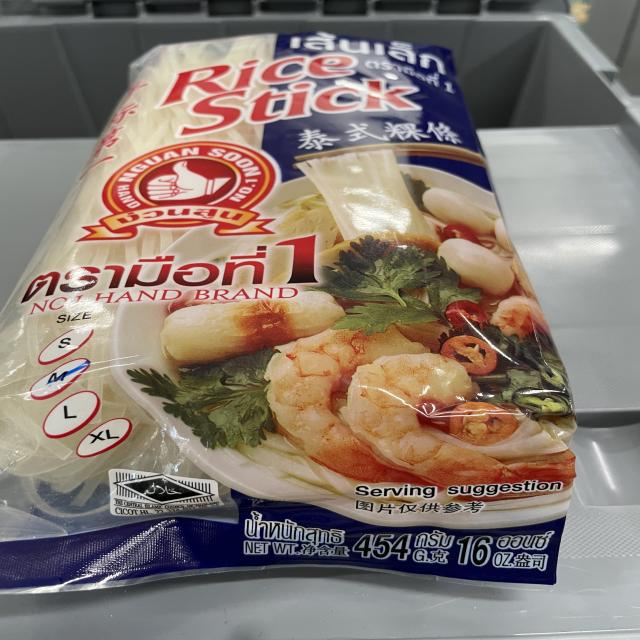object_name: (24, 45, 543, 563)
